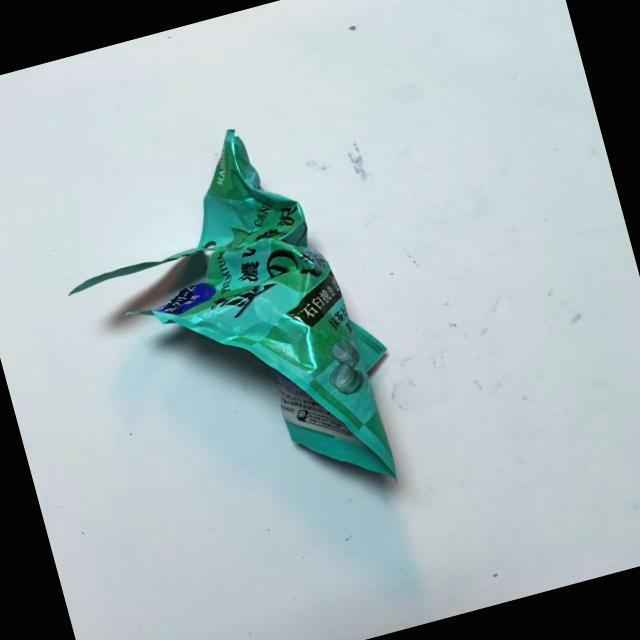plastic: (7, 59, 478, 607)
